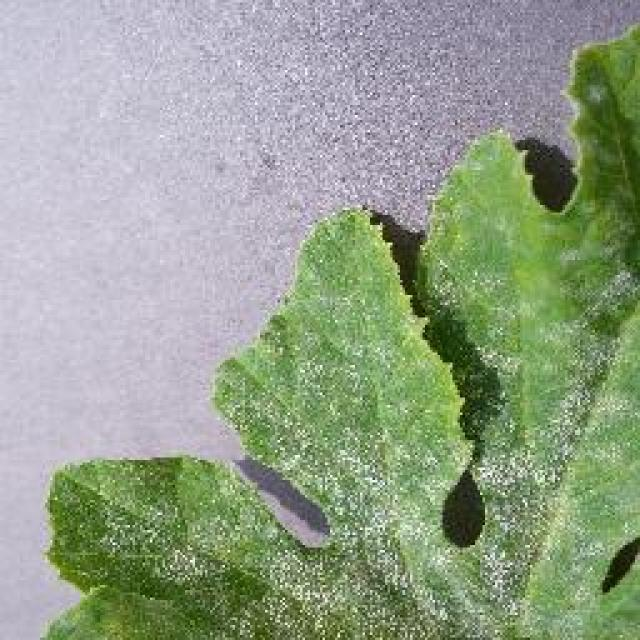Squ_Powdery_mildew: (150, 352, 615, 636)
